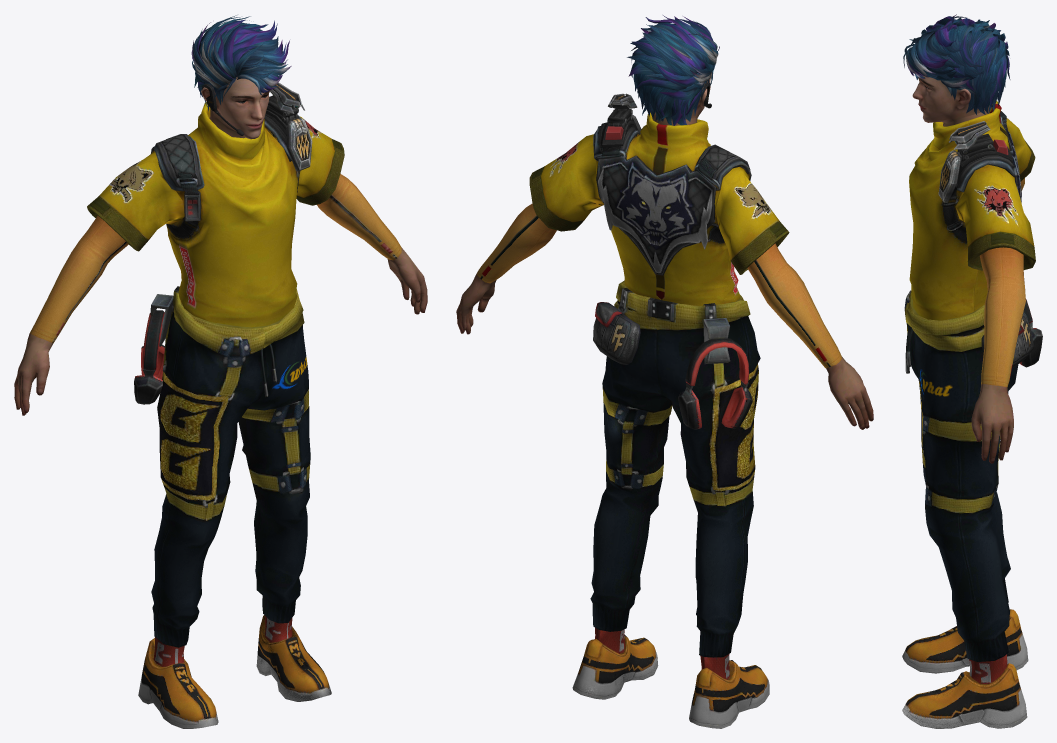
File: Wolfrahh.obj
The picture shows the model from 3 angles, left to right: view 1: azimuth 30°, elevation 25°; view 2: azimuth 150°, elevation 25°; view 3: azimuth 270°, elevation 25°; orthographic projection.
Visible parts, largest first — view 1: Bottum_Mesh_0014.rip_mesh0000, Top_Mesh_0012.rip_mesh0000, Shoe_Mesh_0010.rip_mesh0000, Face_Mesh_0006.rip_mesh0000, Hair_Mesh_0044.rip_mesh0000; view 2: Bottum_Mesh_0014.rip_mesh0000, Top_Mesh_0012.rip_mesh0000, Shoe_Mesh_0010.rip_mesh0000, Hair_Mesh_0044.rip_mesh0000, Face_Mesh_0006.rip_mesh0000; view 3: Bottum_Mesh_0014.rip_mesh0000, Top_Mesh_0012.rip_mesh0000, Shoe_Mesh_0010.rip_mesh0000, Hair_Mesh_0044.rip_mesh0000, Face_Mesh_0006.rip_mesh0000.
Part boxes in pixels (x1,y1,x2,y2): Bottum_Mesh_0014.rip_mesh0000: [134, 286, 310, 666]; Top_Mesh_0012.rip_mesh0000: [30, 82, 401, 343]; Shoe_Mesh_0010.rip_mesh0000: [138, 83, 331, 728]; Face_Mesh_0006.rip_mesh0000: [14, 77, 427, 415]; Hair_Mesh_0044.rip_mesh0000: [191, 15, 291, 111]; Bottum_Mesh_0014.rip_mesh0000: [590, 280, 760, 679]; Top_Mesh_0012.rip_mesh0000: [476, 93, 841, 368]; Shoe_Mesh_0010.rip_mesh0000: [572, 82, 769, 728]; Hair_Mesh_0044.rip_mesh0000: [627, 15, 719, 125]; Face_Mesh_0006.rip_mesh0000: [456, 72, 873, 429]; Bottum_Mesh_0014.rip_mesh0000: [904, 290, 1042, 683]; Top_Mesh_0012.rip_mesh0000: [909, 100, 1035, 387]; Shoe_Mesh_0010.rip_mesh0000: [902, 609, 1028, 728]; Hair_Mesh_0044.rip_mesh0000: [903, 14, 1010, 114]; Face_Mesh_0006.rip_mesh0000: [912, 76, 1013, 463].
Bounding box in the file's own units: 0.5977 × 0.9467 × 0.1793.
Materials: 5 (5 with a texture image).
